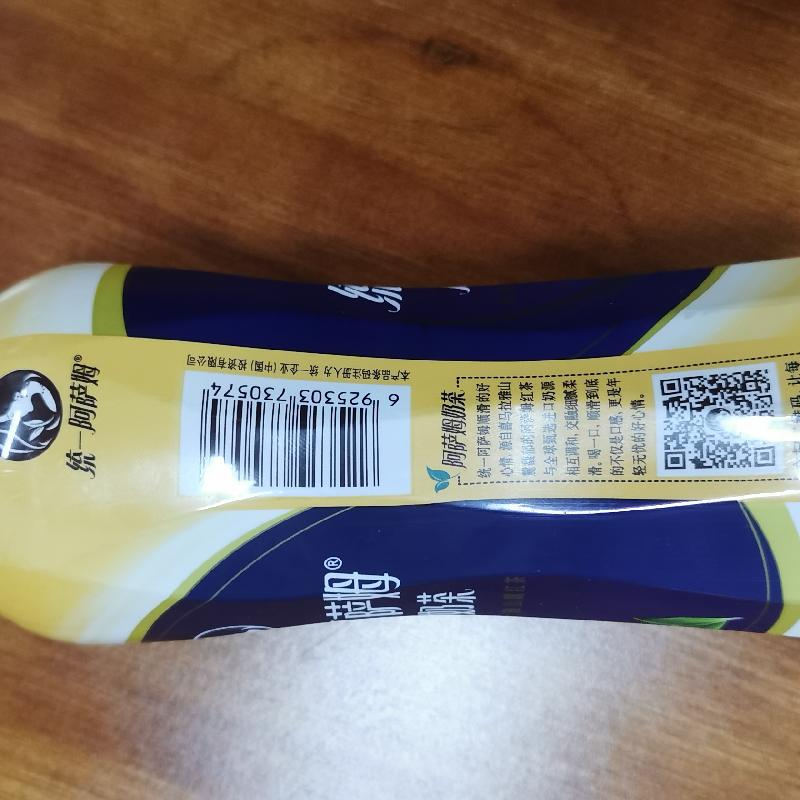bottles: (2, 248, 799, 654)
